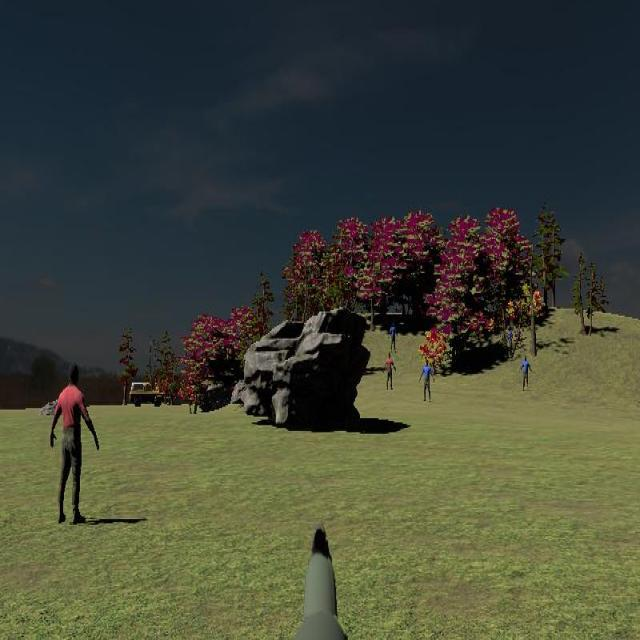Human: (50, 361, 99, 525), (419, 358, 434, 403), (383, 352, 396, 391), (520, 355, 532, 391)
car: (130, 382, 165, 407)
